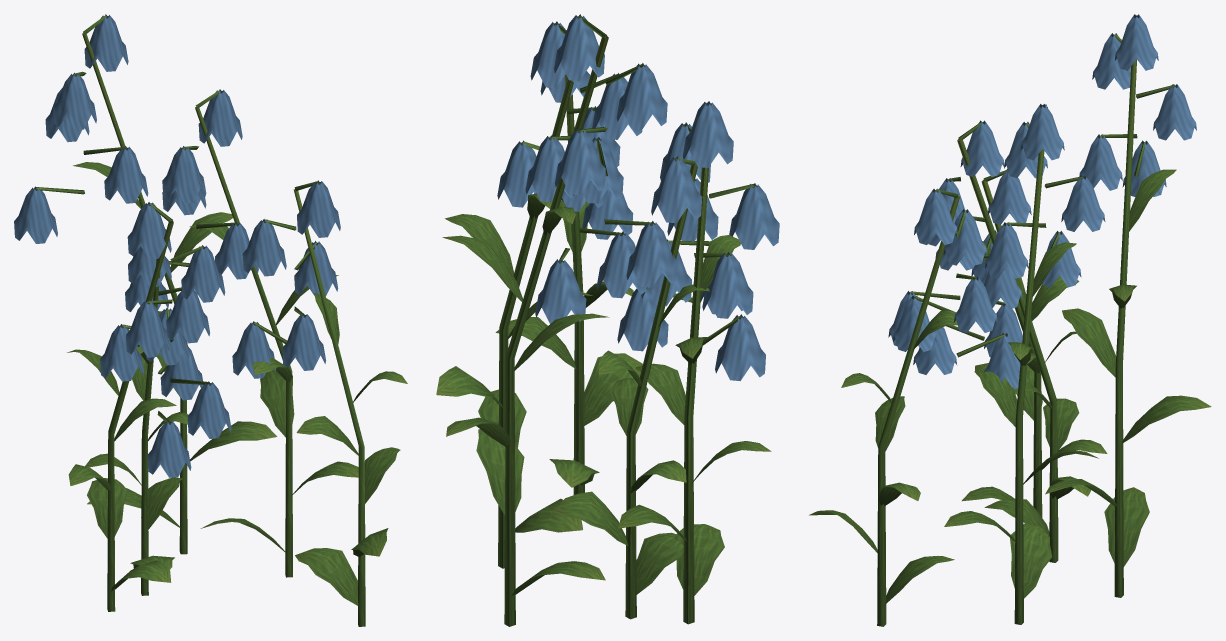
Rendered from Harebell_C.fbx.
3 views of the same model, side by side, from view 1: azimuth 30°, elevation 25°; view 2: azimuth 150°, elevation 25°; view 3: azimuth 270°, elevation 25° (orthographic). The views are drawn at different scales.
Visible parts, largest first — view 1: Harebell_C_LOD0; view 2: Harebell_C_LOD0; view 3: Harebell_C_LOD0.
Part boxes in pixels (x1,y1,x2,y2): Harebell_C_LOD0: (14, 14, 407, 626); Harebell_C_LOD0: (436, 14, 779, 626); Harebell_C_LOD0: (809, 14, 1211, 626).
Size of what is drawn, in the model's own units: 17.69 by 32.76 by 21.87.
1 material, 1 textured.
